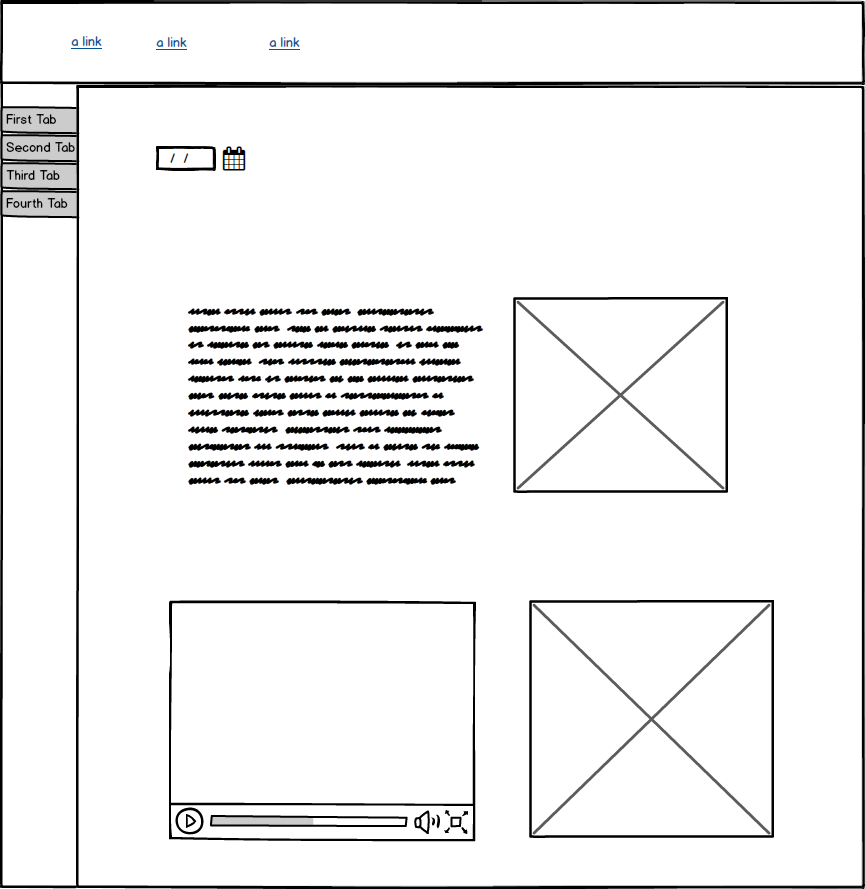date_picker: (151, 136, 261, 186)
image: (528, 594, 775, 839), (510, 293, 734, 496)
navlink: (257, 24, 324, 59), (151, 28, 195, 59), (68, 28, 107, 62)
p: (184, 296, 490, 497)
sidebar: (3, 97, 84, 227)
video: (160, 596, 486, 850)
